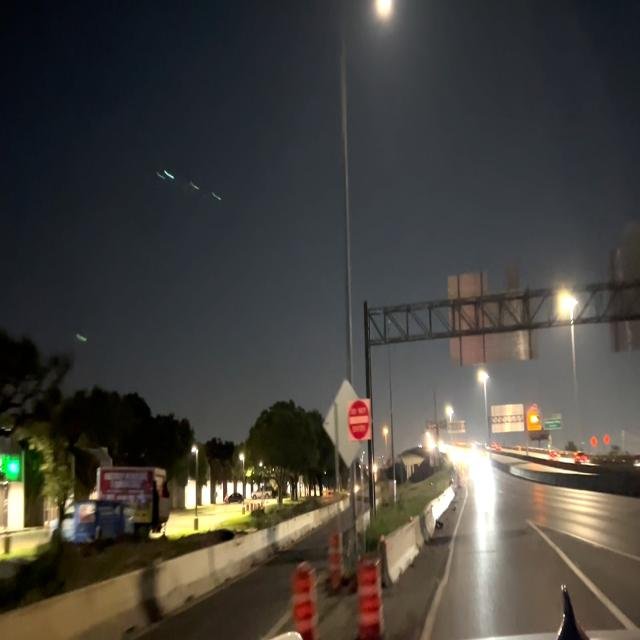back-of-sign: (446, 267, 540, 368), (608, 222, 640, 365), (489, 401, 525, 434), (444, 417, 467, 437)
